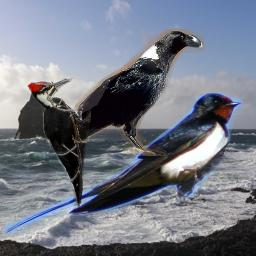Crow: (46, 29, 204, 156)
Swallow: (2, 92, 243, 234)
Woodpecker: (27, 77, 91, 214)
